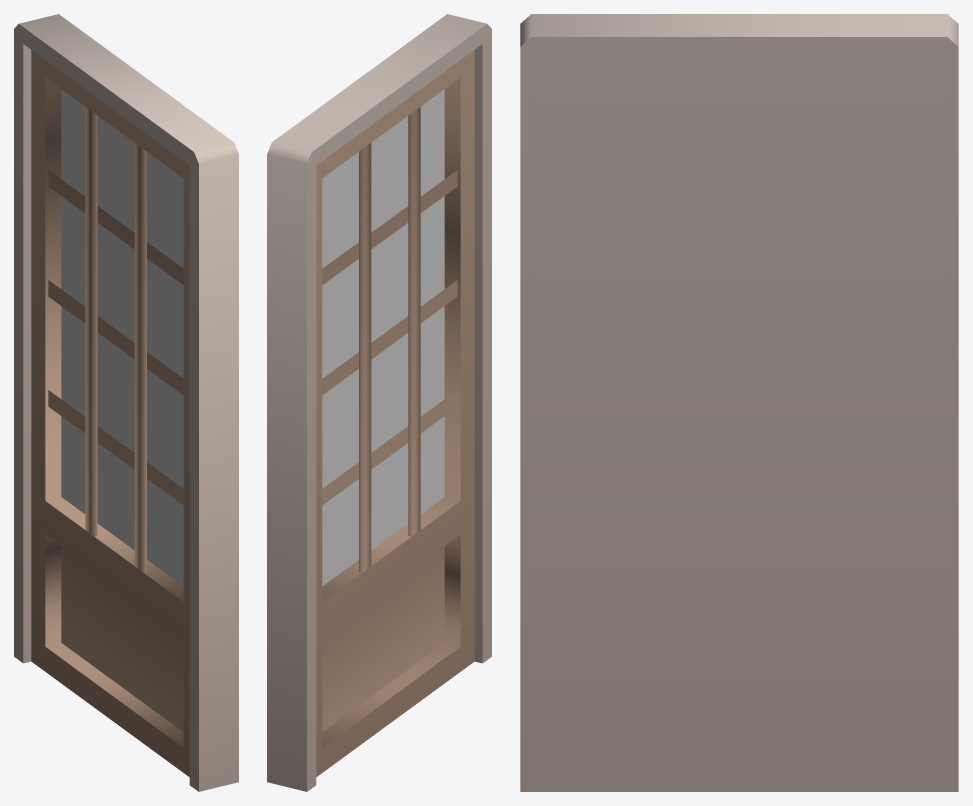
File: door-shoji-panel (%wall).glb
3 renders of one model, left to right at view 1: azimuth 30°, elevation 25°; view 2: azimuth 150°, elevation 25°; view 3: azimuth 270°, elevation 25°, orthographic. The views are drawn at different scales.
Visible parts, largest first — view 1: door-shoji-panel (%wall); view 2: door-shoji-panel (%wall); view 3: door-shoji-panel (%wall).
Boxes of the visible parts, x1,y1,x2,y2 form: door-shoji-panel (%wall): [14, 14, 238, 791]; door-shoji-panel (%wall): [267, 14, 491, 791]; door-shoji-panel (%wall): [520, 14, 958, 791].
Size of the model in its own units: 0.125 by 1.9 by 1.
